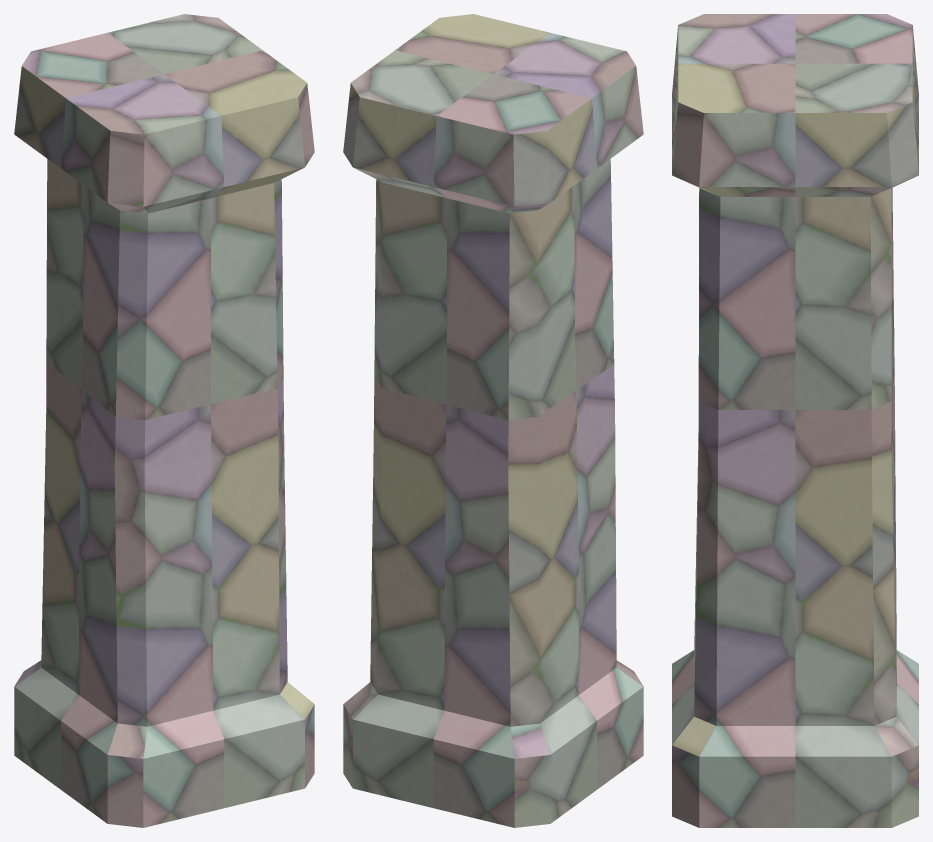
File: 이끼돌기둥.fbx
3 views of the same model, side by side, from view 1: azimuth 30°, elevation 25°; view 2: azimuth 150°, elevation 25°; view 3: azimuth 270°, elevation 25° (orthographic). The views are drawn at different scales.
Visible parts, largest first — view 1: 이끼돌기둥; view 2: 이끼돌기둥; view 3: 이끼돌기둥.
Part boxes in pixels (bbox=[...]): 이끼돌기둥: bbox=[14, 14, 314, 827]; 이끼돌기둥: bbox=[343, 14, 643, 827]; 이끼돌기둥: bbox=[672, 14, 918, 827].
Size of the model in its own units: 220 by 700 by 220.
1 material, 1 textured.
